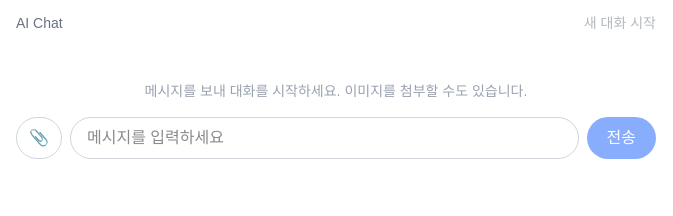
ChatApp › stops a streaming reply without showing an error
In the field with placeholder "메시지를 입력하세요": (324, 138) [70, 117, 579, 159], type "hi"
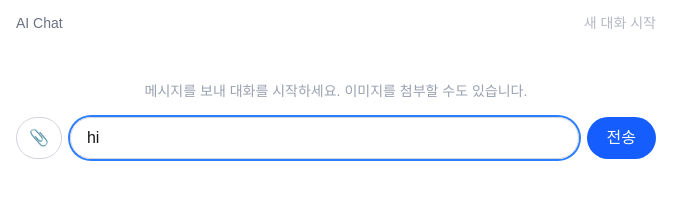
Click the button "전송": (621, 138) [586, 117, 656, 159]
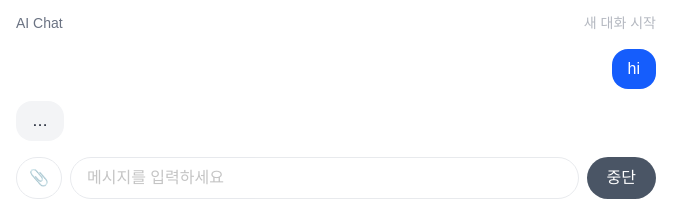
Click the button "중단": (621, 178) [586, 157, 656, 199]
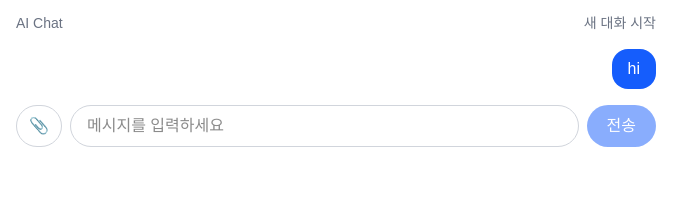
Result: the button "전송" is shown at [586, 105, 656, 147]
Result: the number of elements with test id "chat-message" is 1 at [612, 49, 656, 89]
